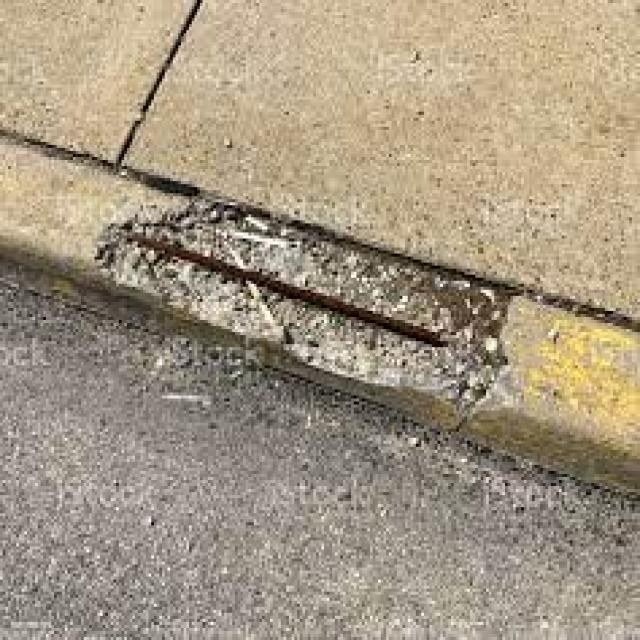curb: (7, 137, 502, 435), (442, 294, 631, 502)
